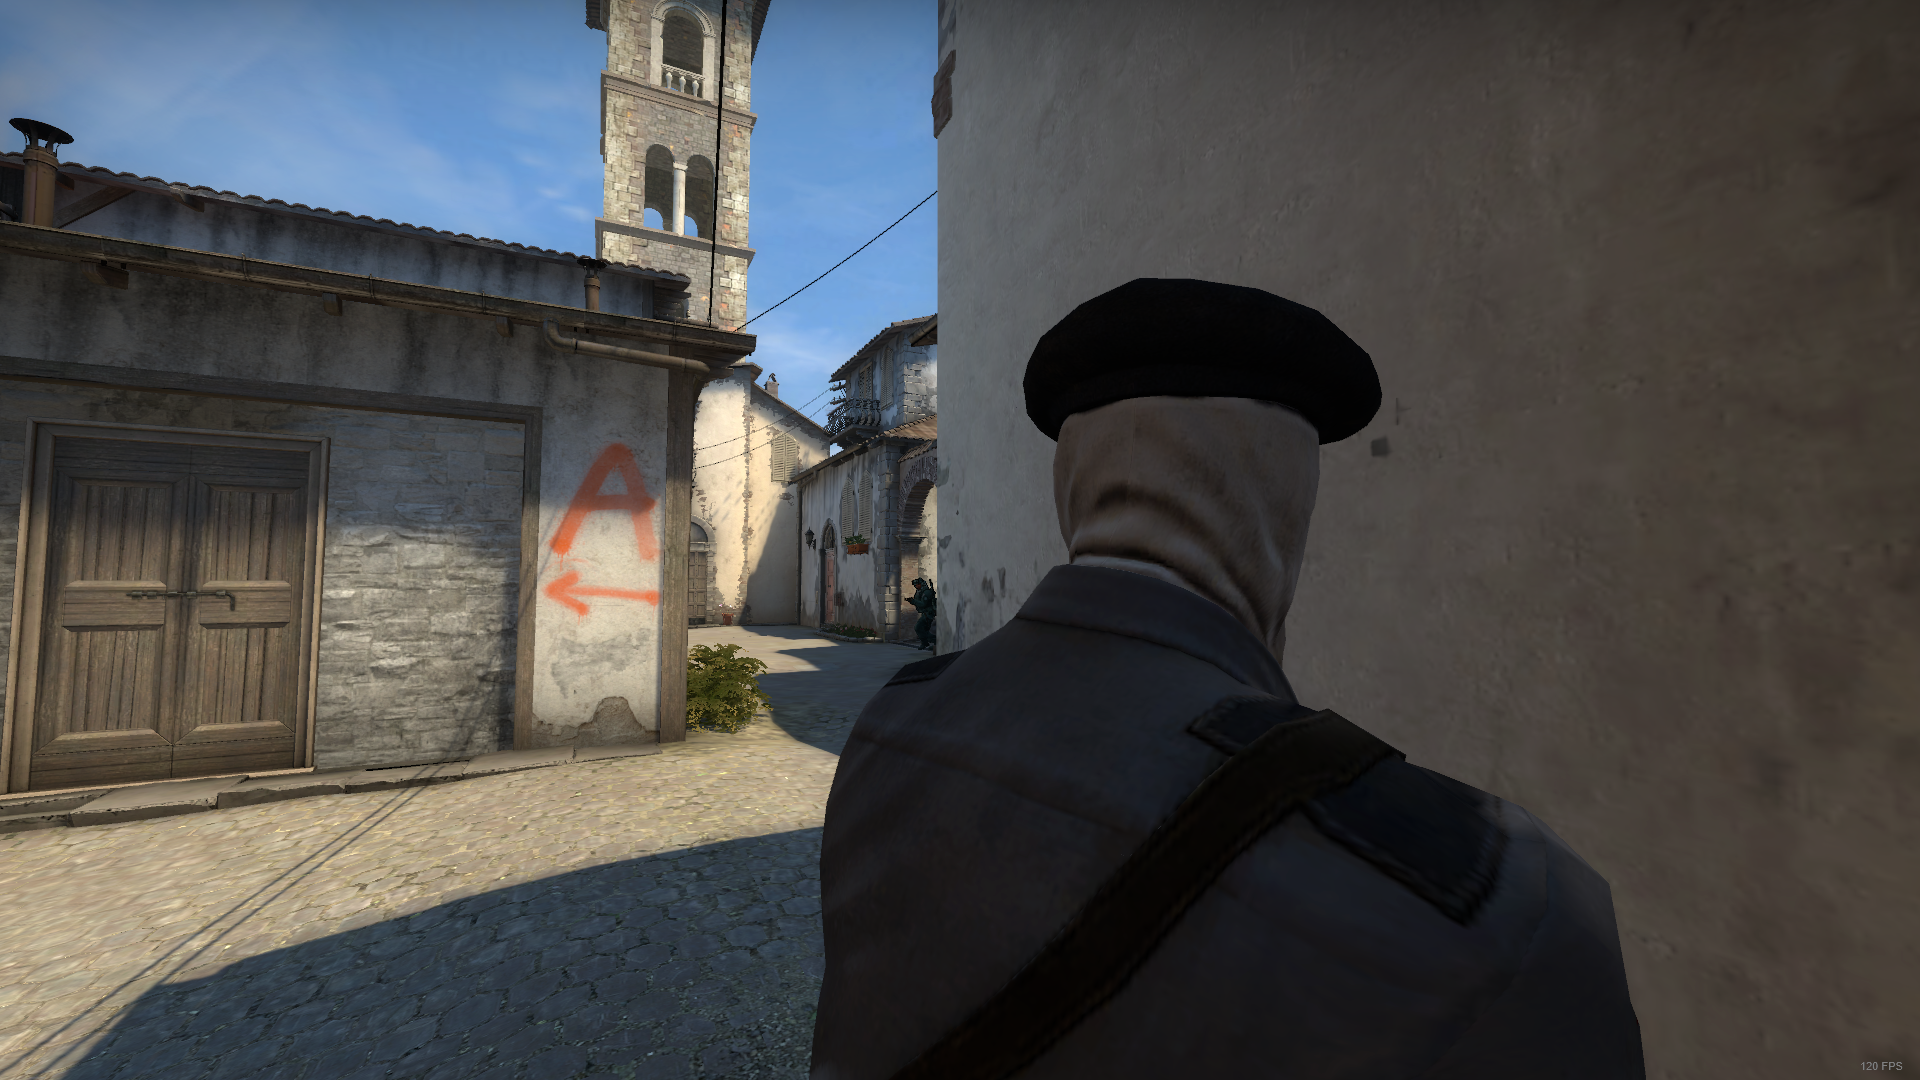t: (796, 261, 1639, 1080)
